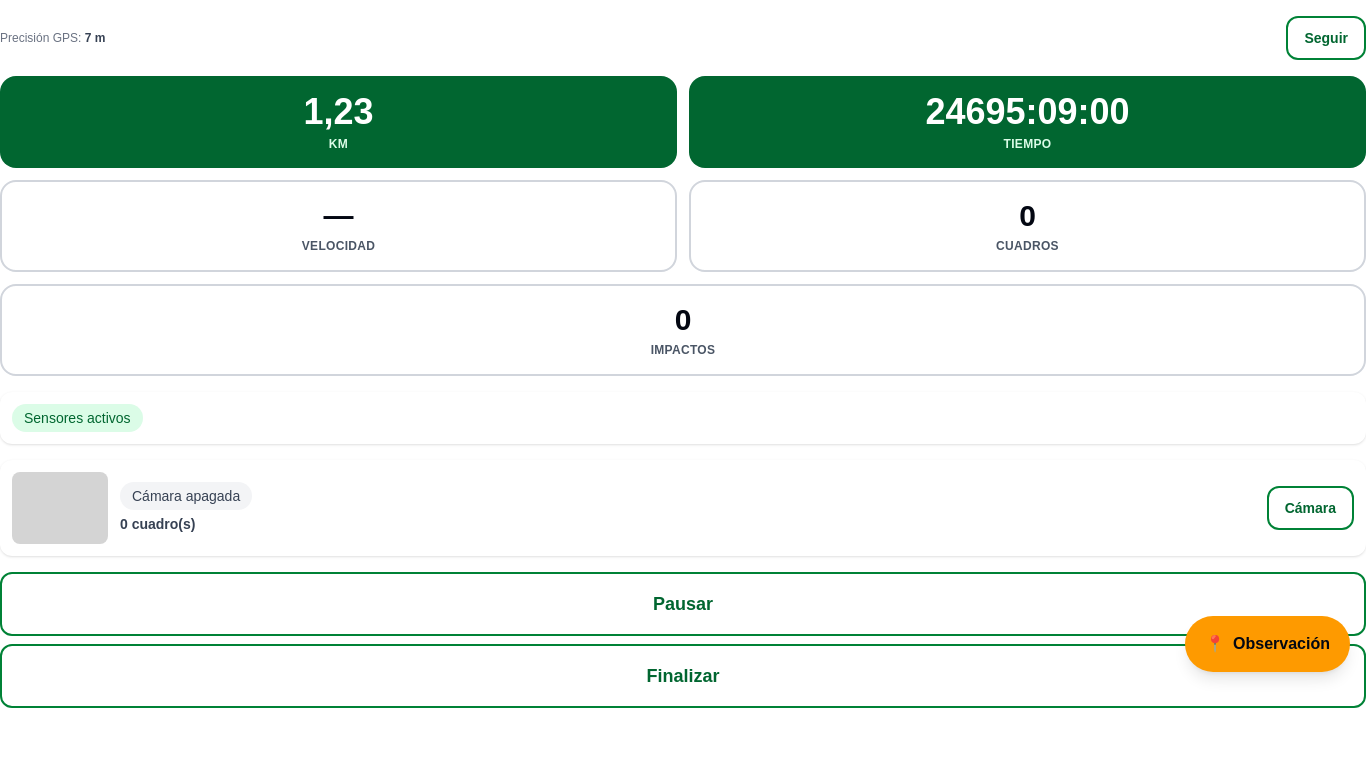
Test: PanelGrabacion › se puede cancelar la confirmación de Finalizar y seguir grabando
Click the button "Finalizar". click: (683, 676)
box: [0,644,1365,708]
(page scrolled)
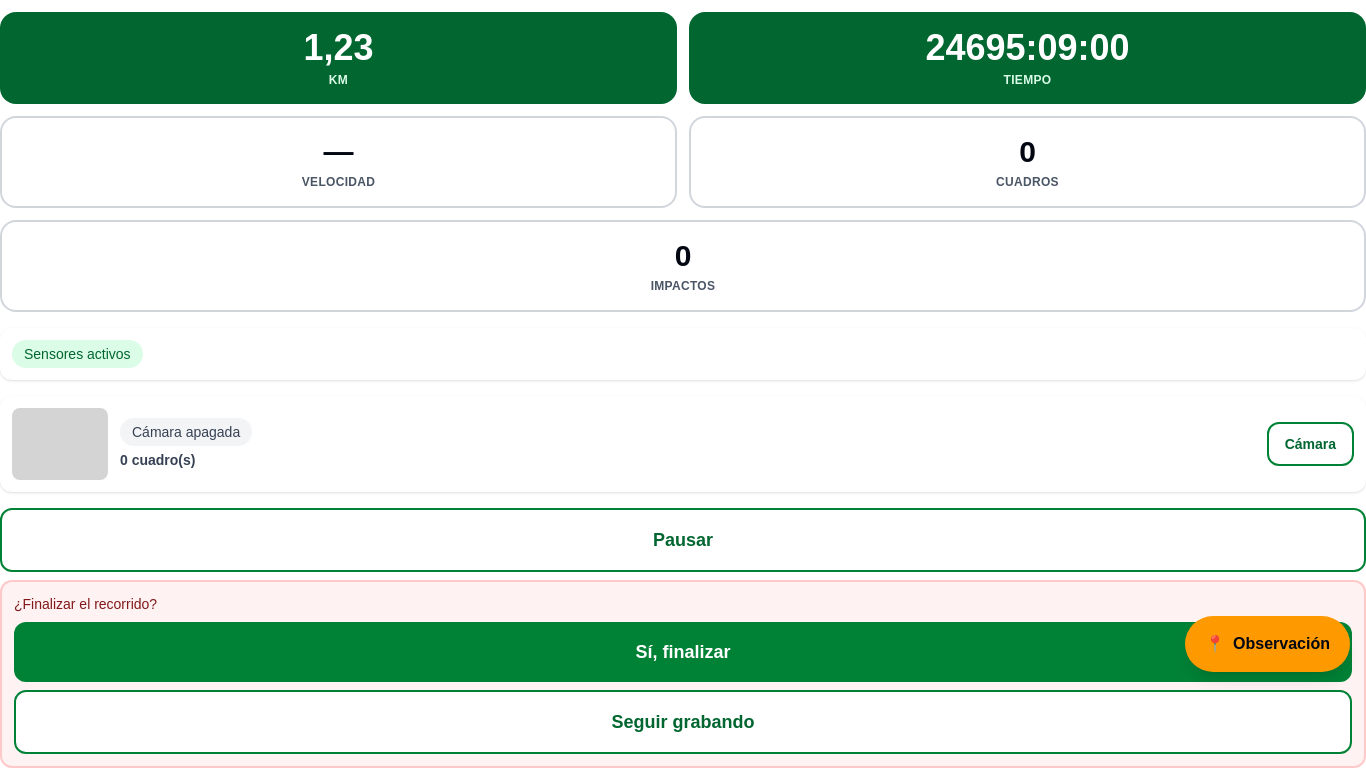
Click the button "Seguir grabando". click: (683, 722)
box: [14,690,1352,754]
(page scrolled)
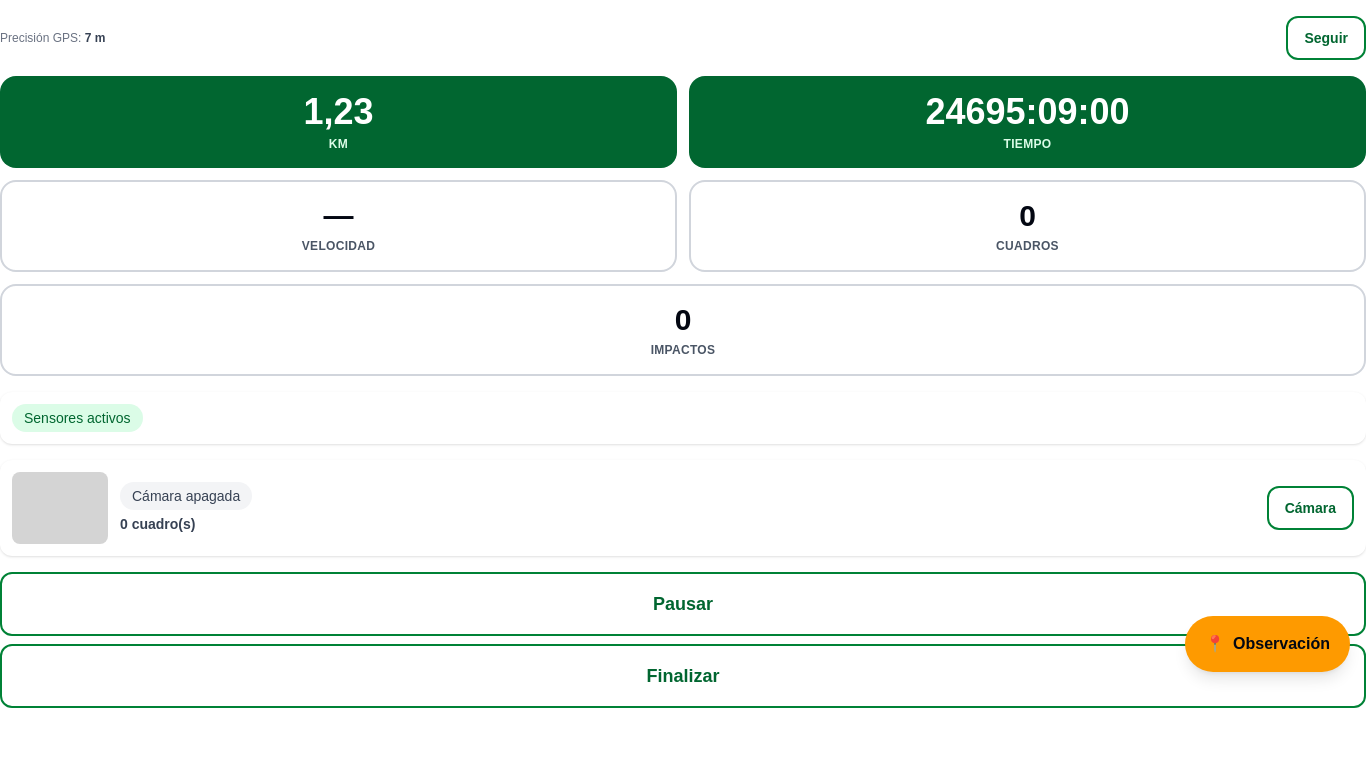
Check: the button "Finalizar" is shown, box [0,644,1365,708]
Check: the text "¿Finalizar el recorrido?" is gone
